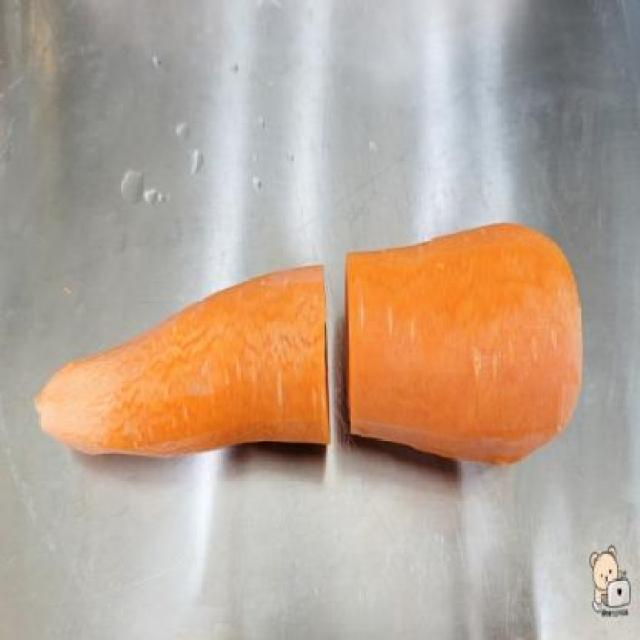carrot: (31, 253, 337, 467), (342, 221, 585, 473)
